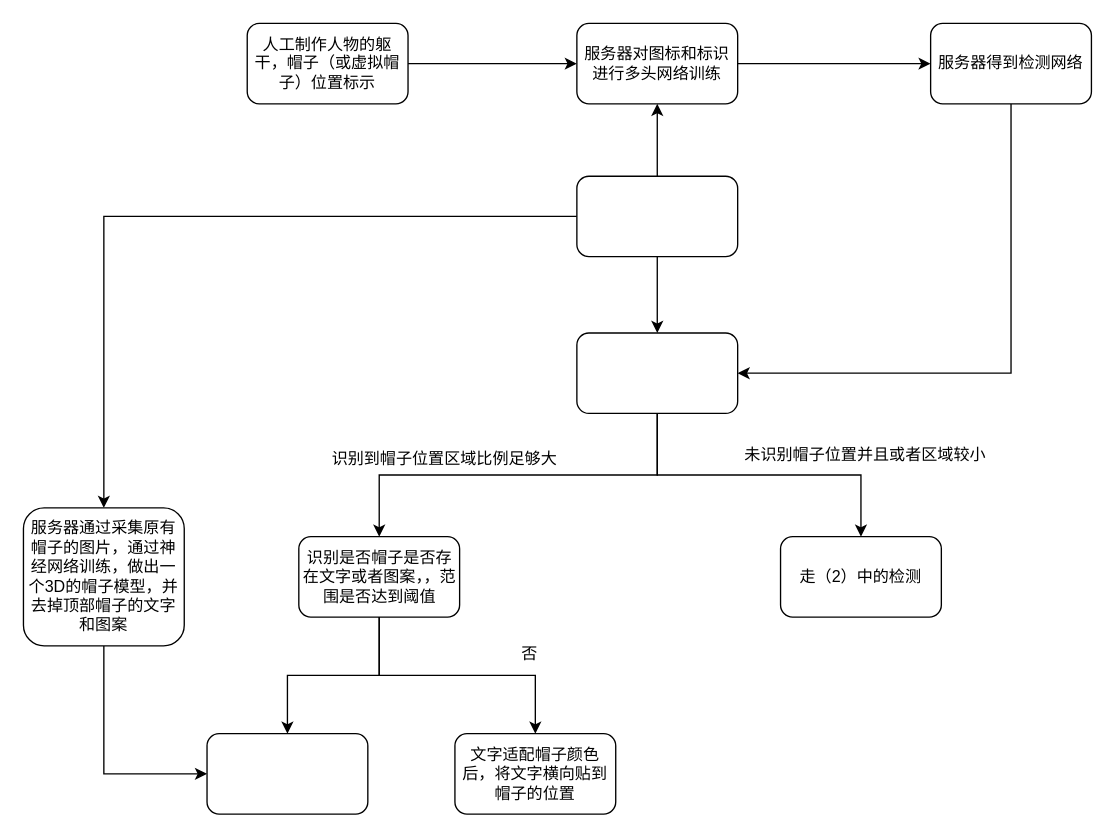
The diagram is 1115 pixels wide and 838 high, and some of its shapes have lost their labels. Here are the shapes that lost their labels. From the top down, the centre of each, then its label:
[657,216]: 服务器
[657,372]: 服务器对直播间视频流进行采集，并直播间图像进行网络检测
[287,773]: 使用虚拟出来的贴图并，加入横向文字贴合到人物帽子的位置上
